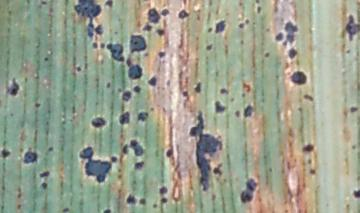tarspot: (189, 109, 222, 193), (78, 145, 112, 184), (73, 1, 102, 37), (125, 33, 147, 80), (344, 12, 360, 43), (239, 177, 258, 203), (122, 139, 145, 158), (106, 42, 125, 63), (284, 19, 299, 43), (22, 146, 39, 166), (6, 75, 20, 98), (90, 115, 108, 130), (146, 7, 160, 26), (289, 71, 307, 85), (241, 103, 256, 119), (213, 99, 227, 116), (214, 18, 227, 35), (117, 111, 131, 125), (140, 21, 154, 34), (136, 111, 150, 124), (286, 46, 298, 61), (212, 162, 224, 176), (125, 192, 137, 206), (120, 89, 132, 102), (240, 79, 252, 92), (301, 143, 316, 153), (146, 75, 158, 87), (177, 8, 189, 20), (94, 23, 105, 36), (301, 92, 315, 102), (14, 184, 23, 199), (133, 160, 146, 170), (193, 80, 202, 94), (273, 31, 284, 42), (158, 185, 169, 195), (1, 147, 12, 157), (155, 27, 165, 38), (109, 154, 119, 164), (233, 108, 242, 119), (38, 170, 50, 178), (219, 87, 229, 96), (165, 148, 174, 158), (160, 8, 170, 17), (204, 42, 214, 51), (349, 105, 359, 114), (138, 195, 146, 206), (307, 167, 316, 176), (352, 188, 360, 198), (104, 1, 114, 9), (91, 40, 98, 51), (60, 206, 71, 213), (181, 89, 189, 98), (159, 196, 168, 204), (100, 207, 112, 213), (40, 181, 48, 190), (132, 85, 141, 93), (238, 37, 246, 46), (296, 103, 304, 112), (33, 101, 43, 108), (98, 40, 105, 50), (165, 77, 172, 87), (256, 5, 262, 16), (157, 50, 165, 58), (75, 64, 82, 73), (105, 80, 112, 89), (306, 156, 313, 165), (16, 202, 23, 211), (263, 51, 270, 59), (236, 22, 243, 30), (206, 26, 214, 33), (47, 146, 55, 153), (344, 48, 352, 55), (244, 16, 250, 25), (142, 50, 149, 57), (264, 27, 271, 34), (152, 202, 158, 210), (350, 143, 356, 151), (267, 165, 273, 173), (240, 91, 246, 98), (181, 1, 188, 7), (40, 1, 48, 6), (43, 56, 49, 62), (254, 1, 260, 4)
